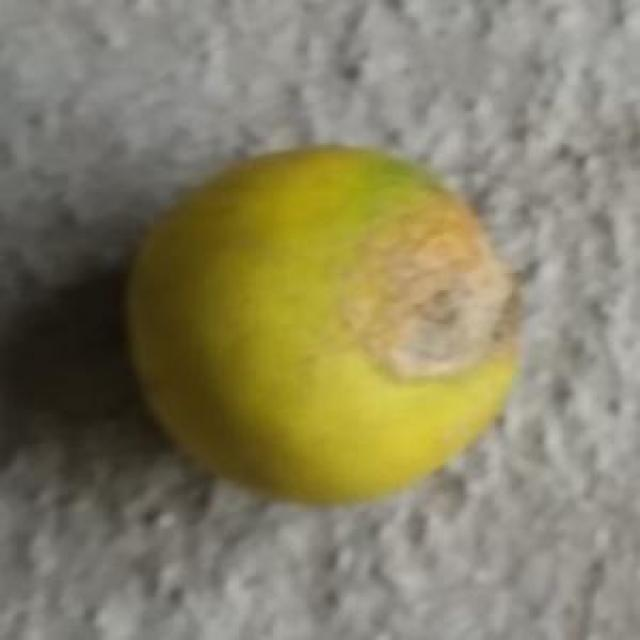lemon: (118, 142, 520, 500)
